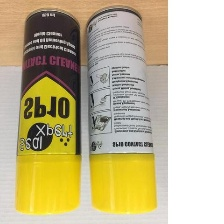aerosol_cans: (83, 2, 161, 218), (11, 4, 85, 218)
